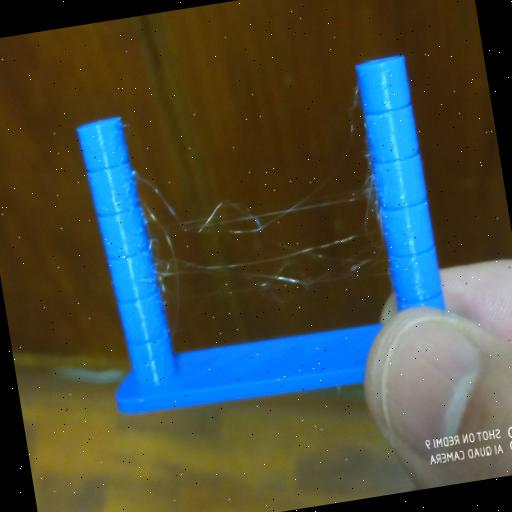stringing: (118, 116, 388, 330)
